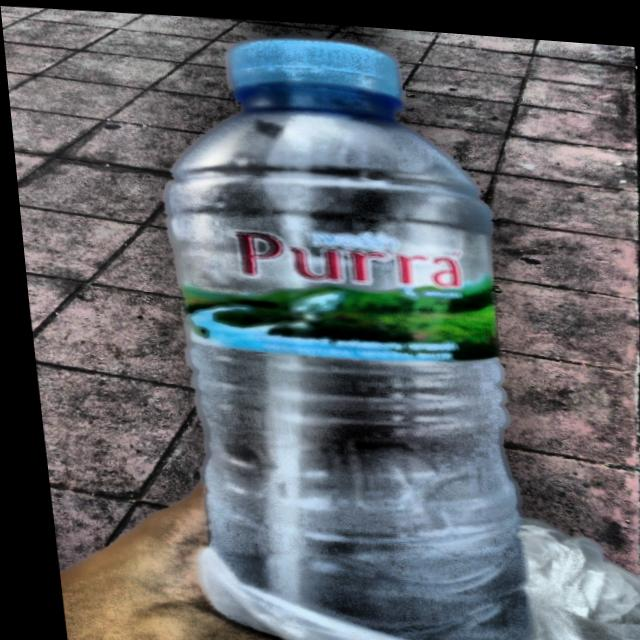Bottles: (115, 15, 614, 640)
